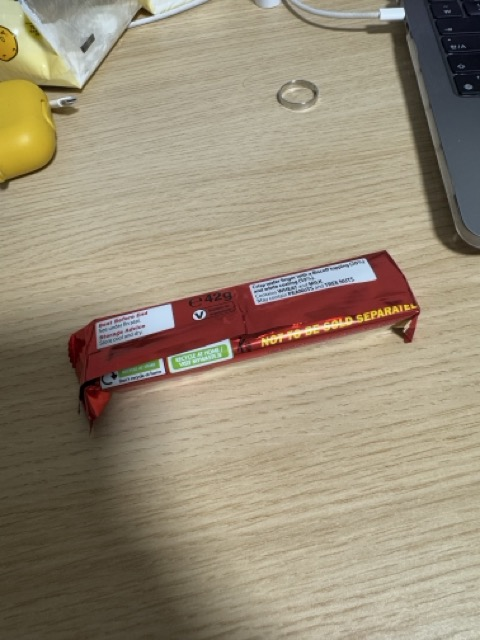chocolate: (59, 326, 413, 411)
